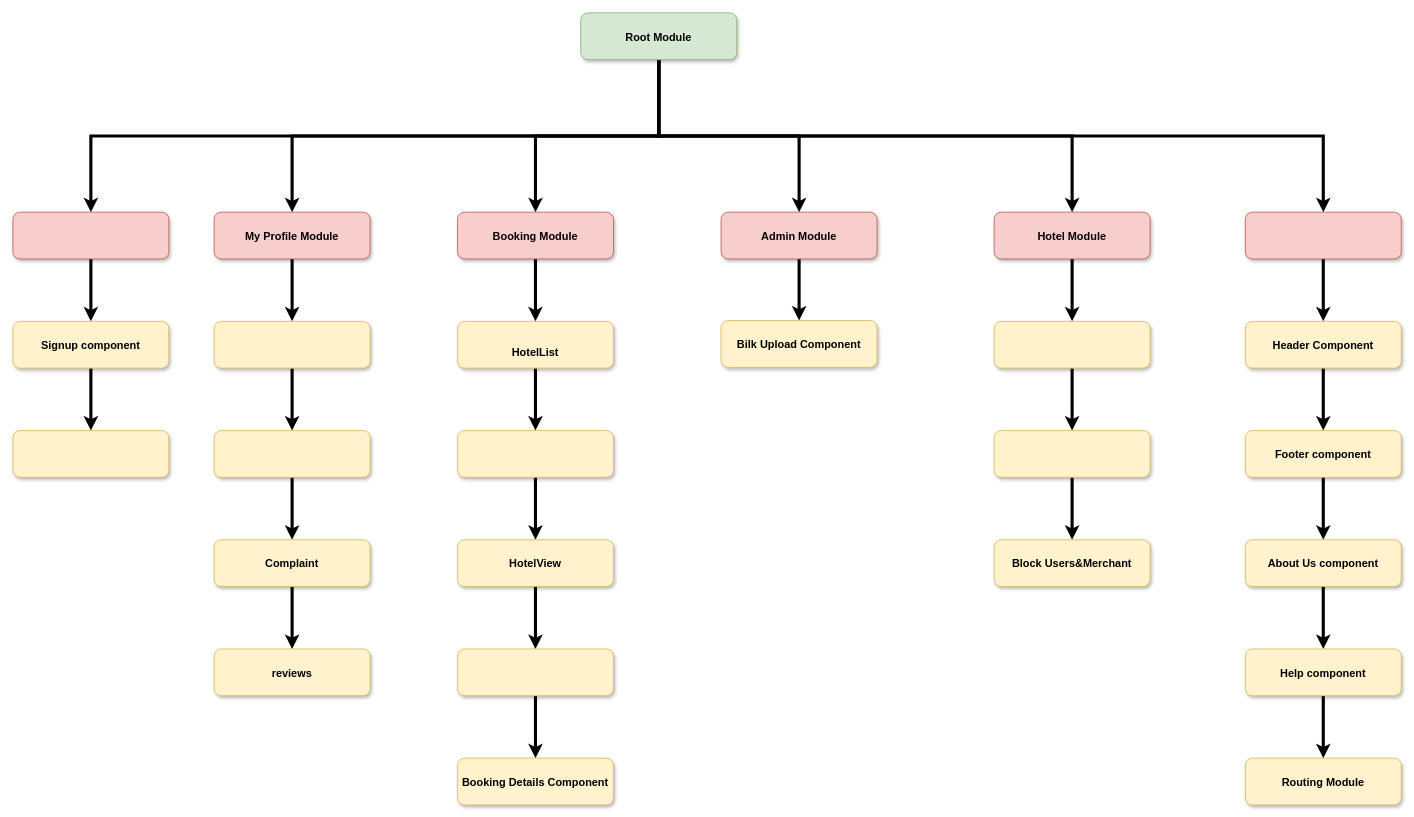
Image size: 1414x817. Some labels were removed from this diagram. Each missing label, with the centre of its shape:
"Authentication Module" goes at point (91, 236).
"Core Module" goes at point (1323, 236).
"HotelItem" goes at point (536, 455).
"myBookings" goes at point (292, 455).
"Offers Component" goes at point (1072, 455).
"profile" goes at point (292, 345).
"Room creation Component" goes at point (1072, 345).
"search" goes at point (536, 673).
"Sign in component" goes at point (91, 455).
